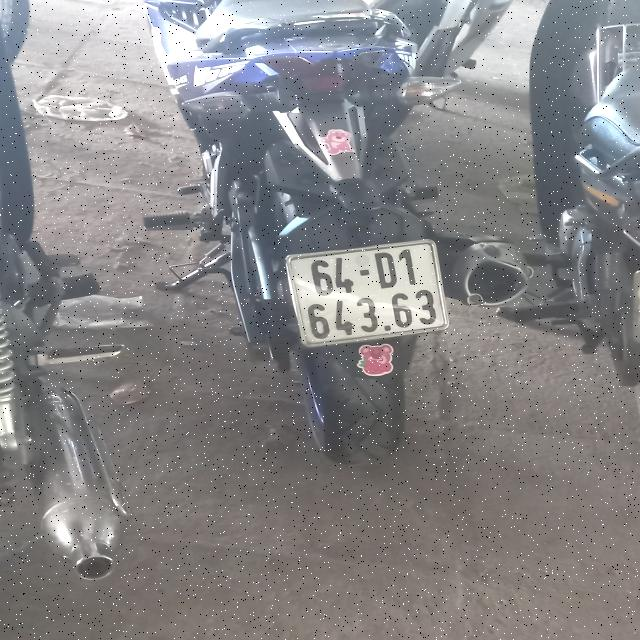1: (399, 249, 416, 285)
3: (355, 297, 379, 332), (416, 290, 436, 325)
4: (334, 301, 356, 335), (333, 257, 353, 292)
6: (307, 303, 331, 340), (310, 258, 332, 296), (391, 292, 413, 330)
D: (373, 252, 398, 288)
